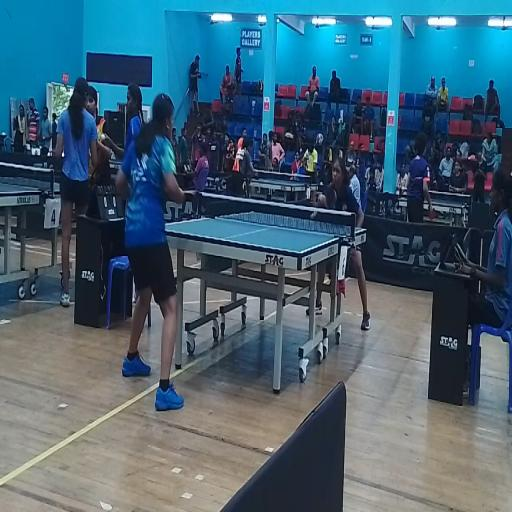ball: (311, 212, 318, 220), (315, 212, 316, 213)
